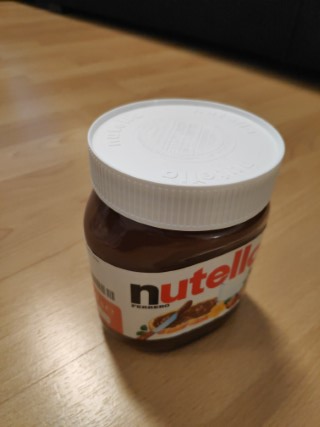nutella: (81, 95, 286, 355)
